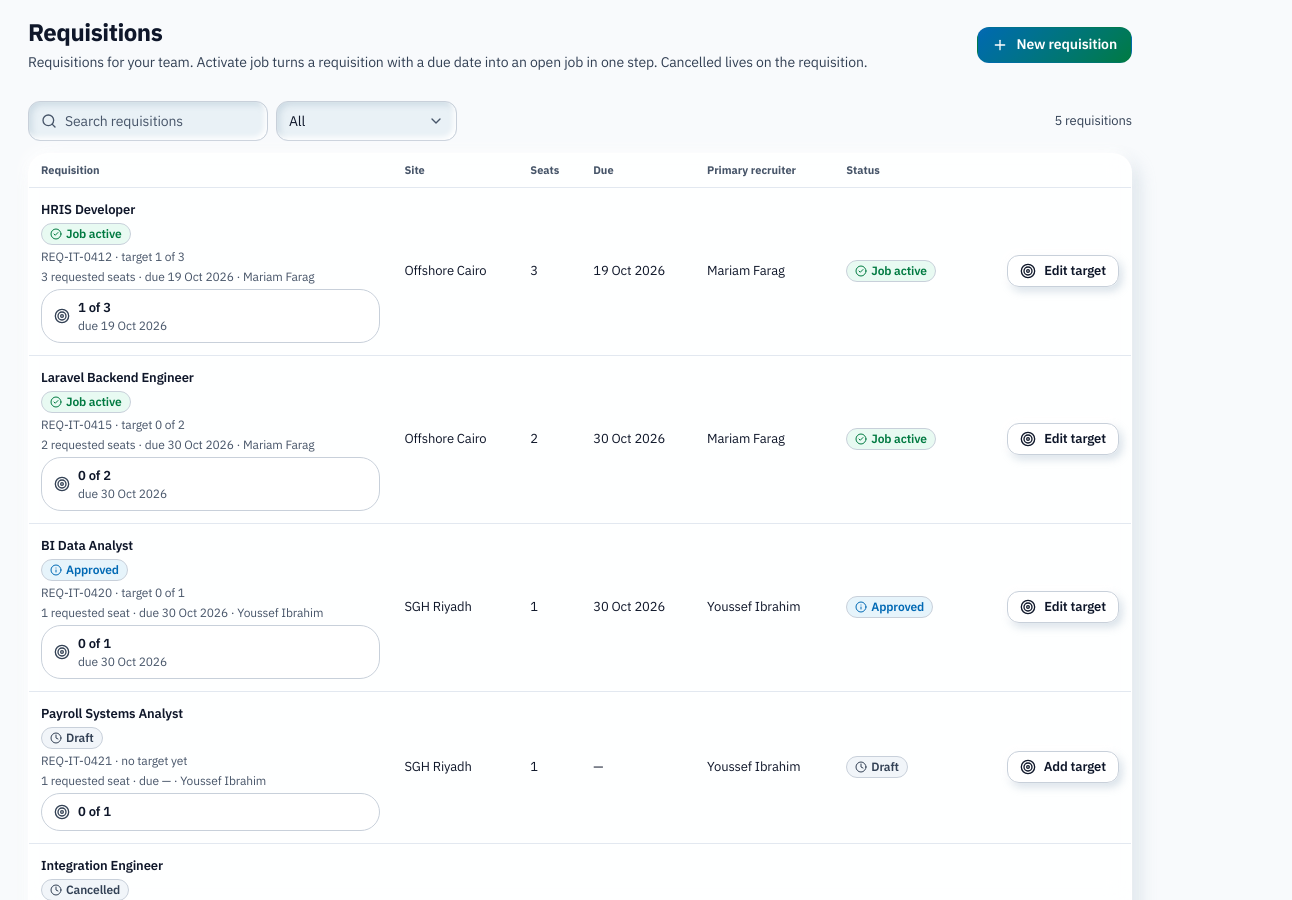
Test: M1 requisitions list › filters: cancelled with reason; search
Select "Cancelled or rejected" in the dropdown named "Status": (366, 121) x1=289 y1=102 x2=444 y2=140
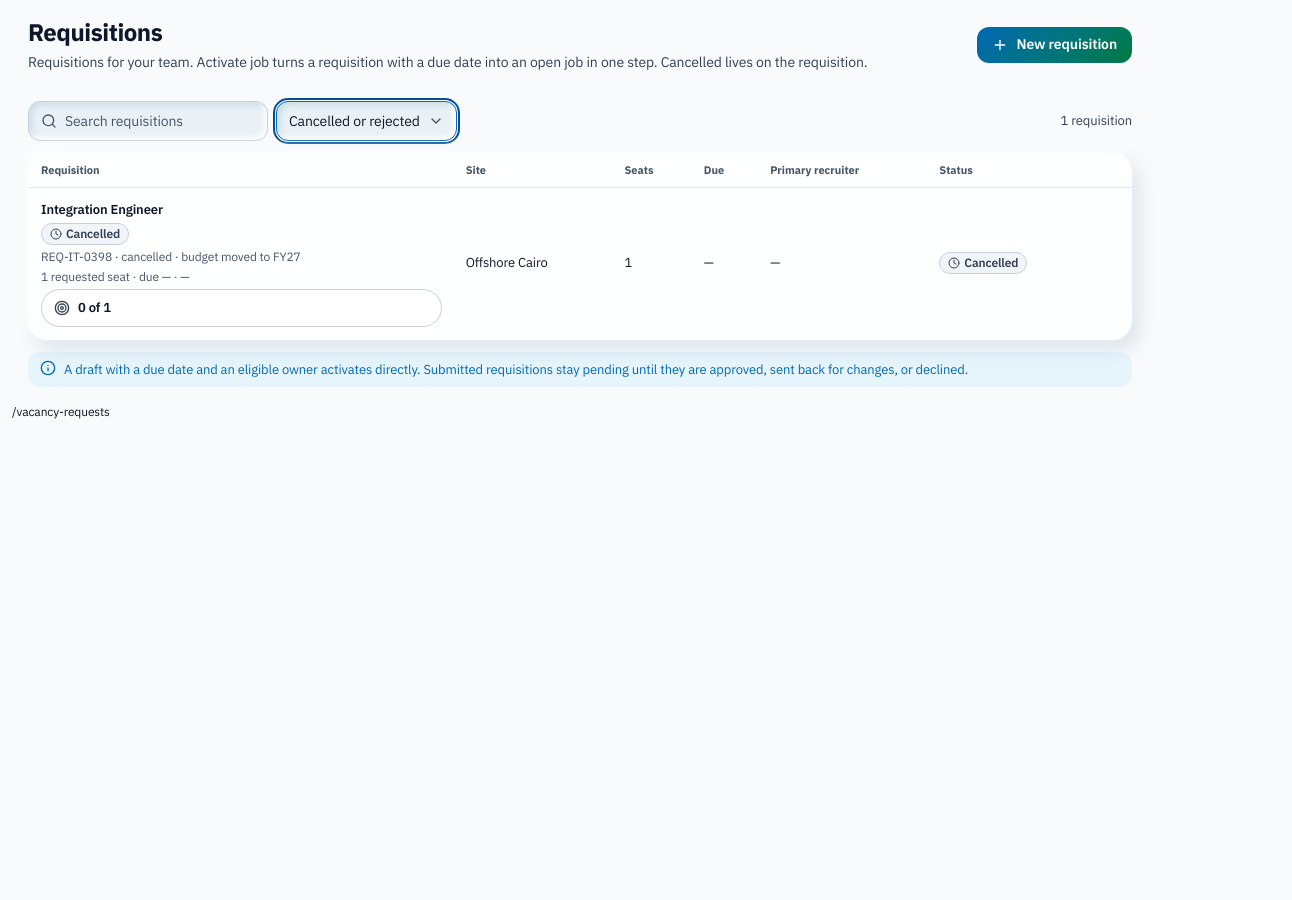
Result: the number of rows is 2 at x1=29 y1=154 x2=1131 y2=187; x1=29 y1=187 x2=1131 y2=338
Result: the table shows "REQ-IT-0398 · cancelled · budget moved to FY27" at x1=29 y1=154 x2=1131 y2=338
Select "In progress" in the dropdown named "Status": (366, 121) x1=289 y1=102 x2=444 y2=140
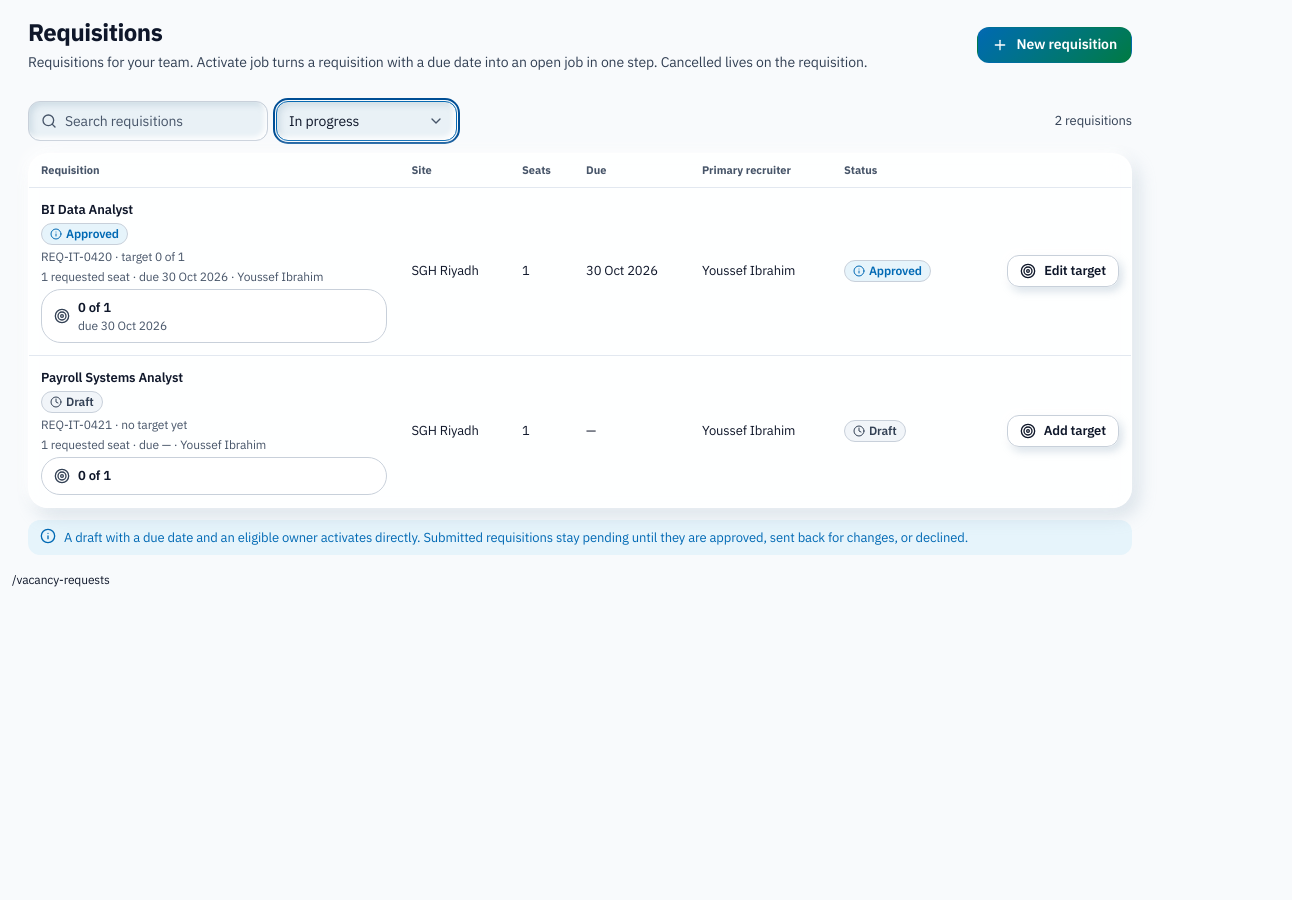
Result: the number of rows is 3 at x1=29 y1=154 x2=1131 y2=187; x1=29 y1=187 x2=1131 y2=355; x1=29 y1=355 x2=1131 y2=506
Select "All" in the dropdown named "Status": (366, 121) x1=289 y1=102 x2=444 y2=140
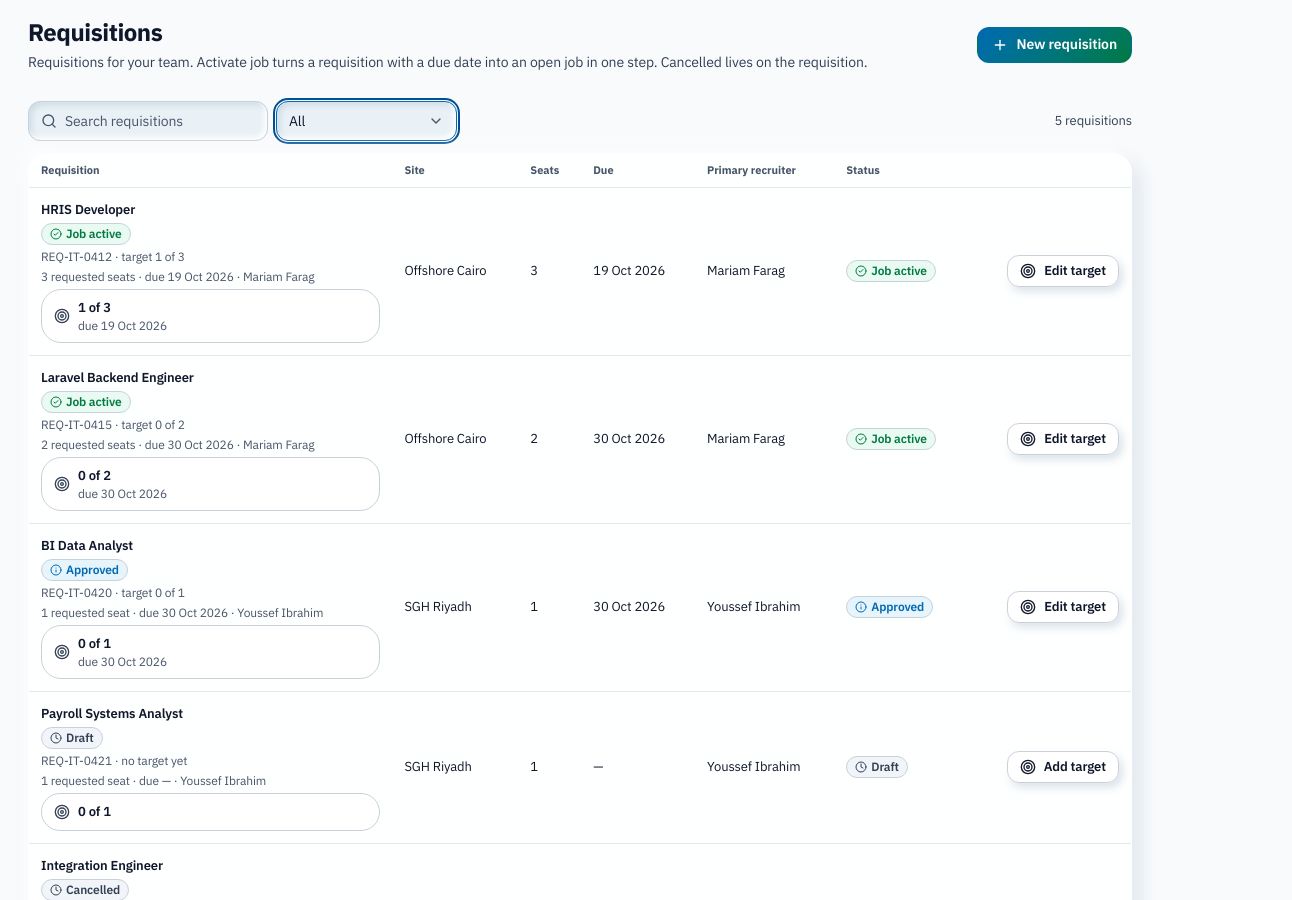
In the field labelled "Search requisitions": (160, 121) x1=65 y1=102 x2=255 y2=140, type "riyadh"
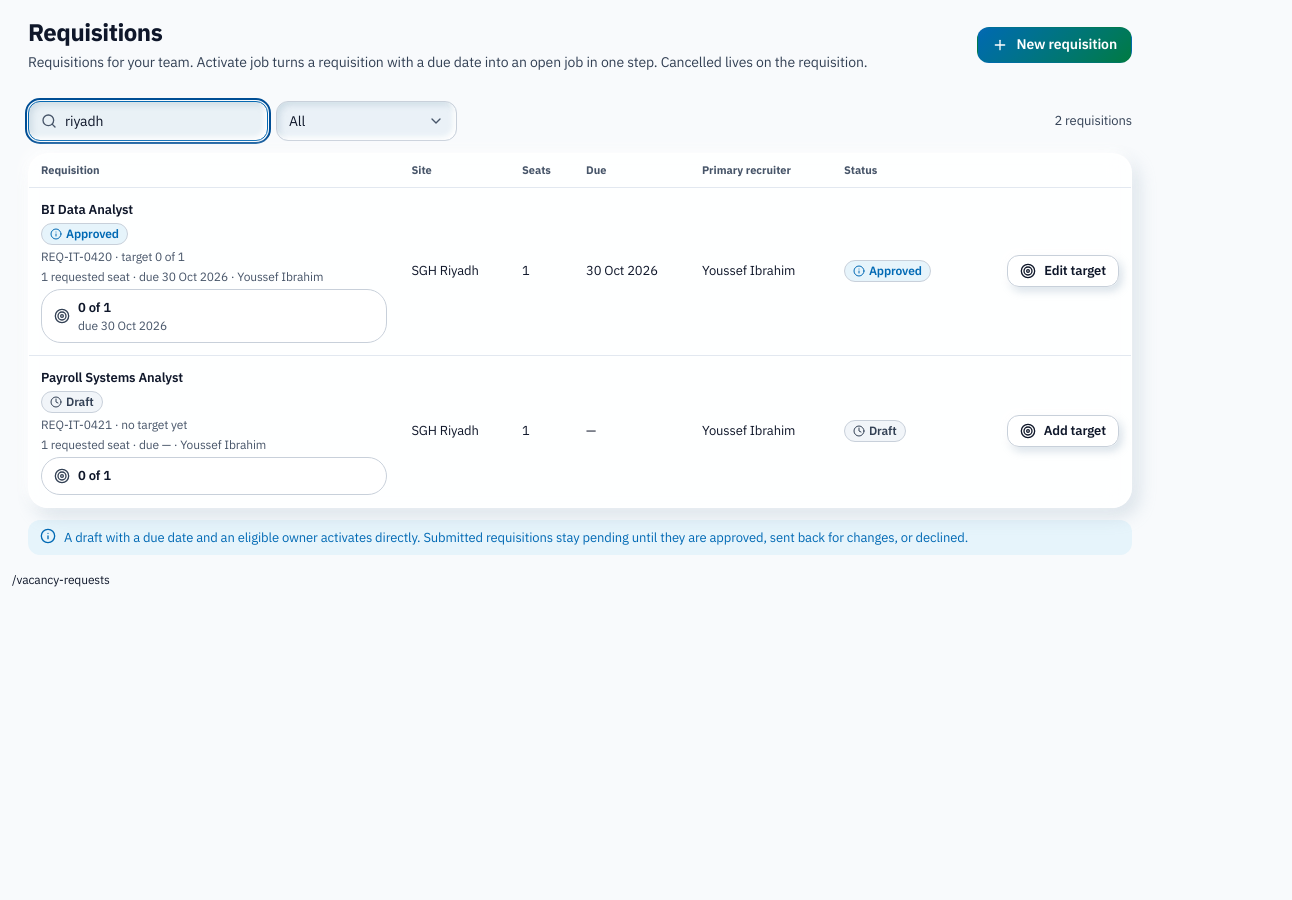
Result: the number of rows is 3 at x1=29 y1=154 x2=1131 y2=187; x1=29 y1=187 x2=1131 y2=355; x1=29 y1=355 x2=1131 y2=506
